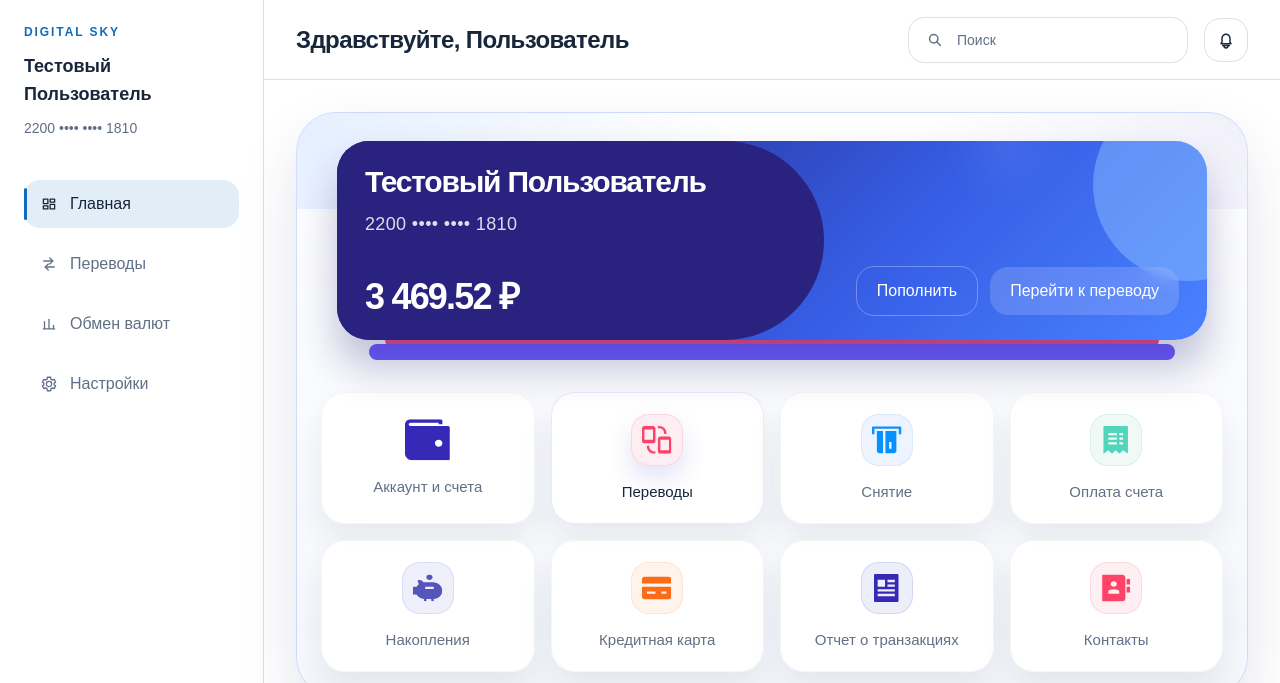
AppShell › keeps shell-local search state when navigating to another route
Step 1. Type "demo" into the field with placeholder "Поиск" → (1064,40), box top-left (957, 30), bottom-right (1171, 50)
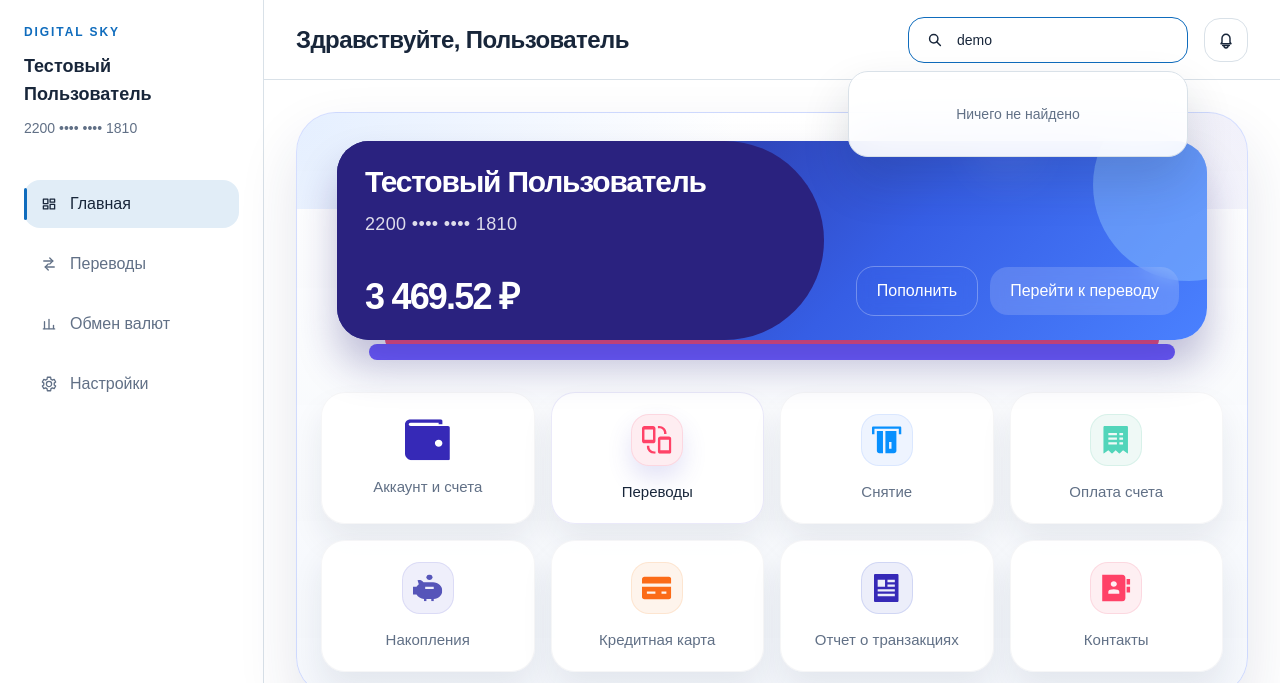
Step 2. Click the link "Обмен валют" → (105,324), box top-left (40, 315), bottom-right (170, 333)
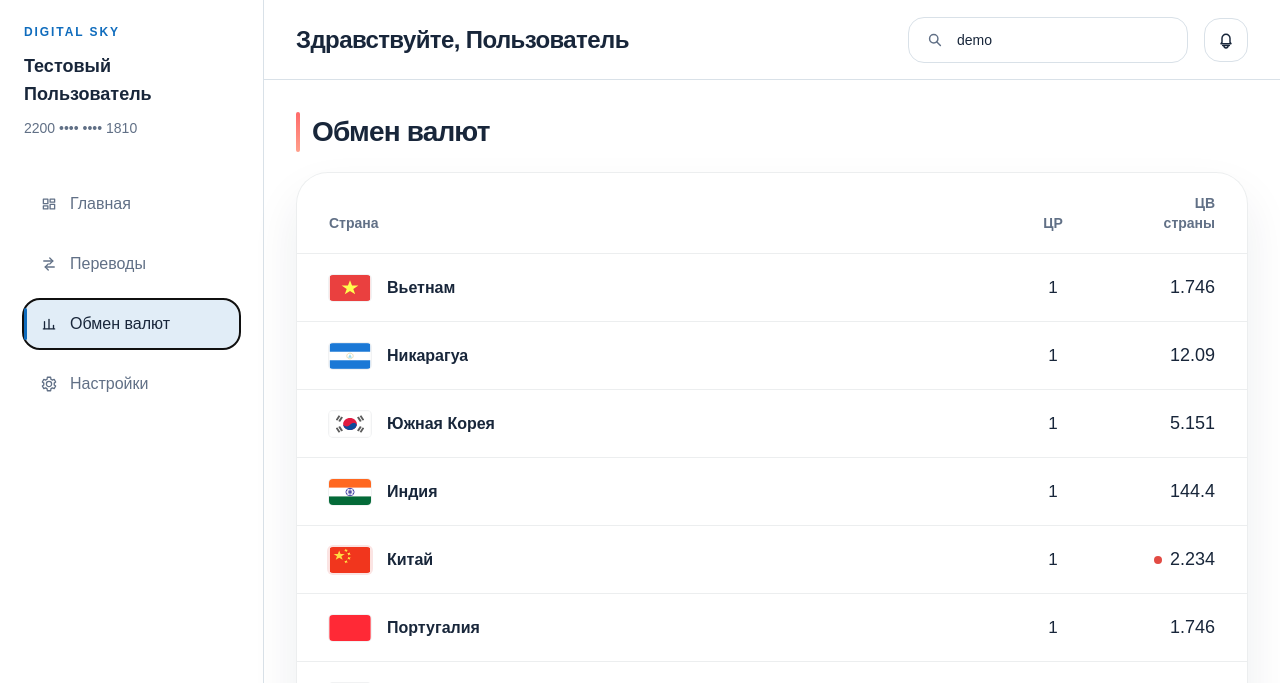
Expected: the heading "Обмен валют" is shown, top-left (312, 116), bottom-right (490, 148)
